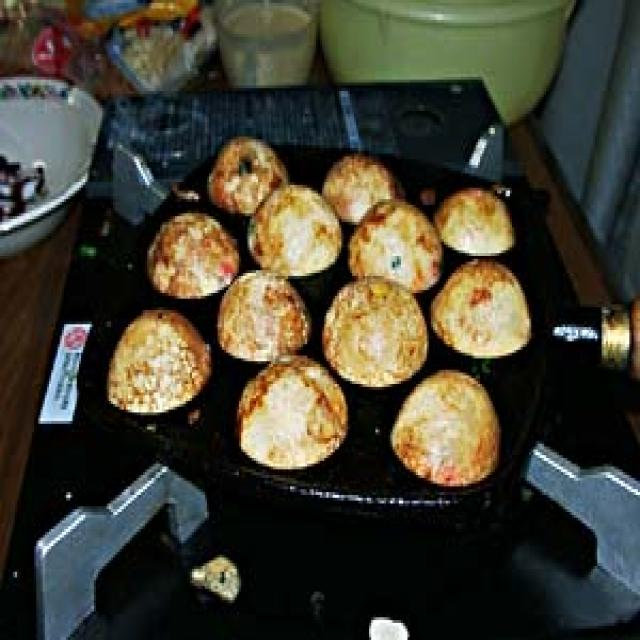炸货点心: (111, 122, 531, 515)
